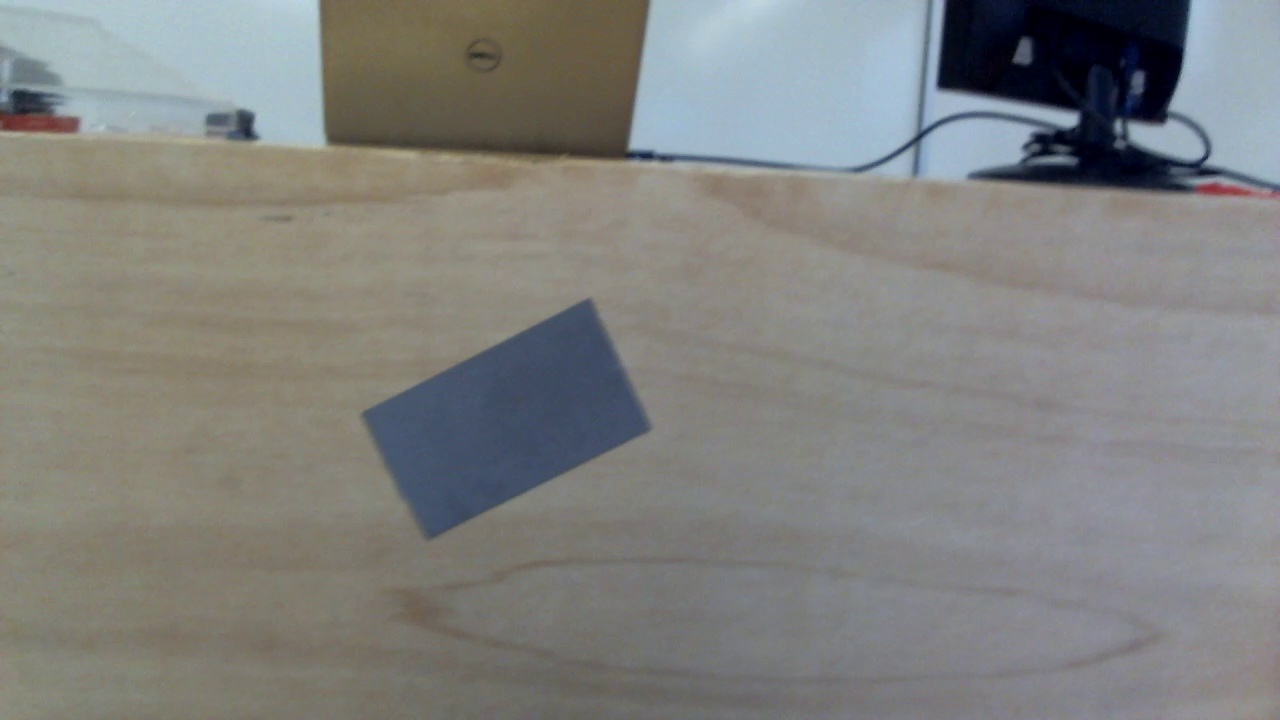Tape: (361, 297, 653, 541)
